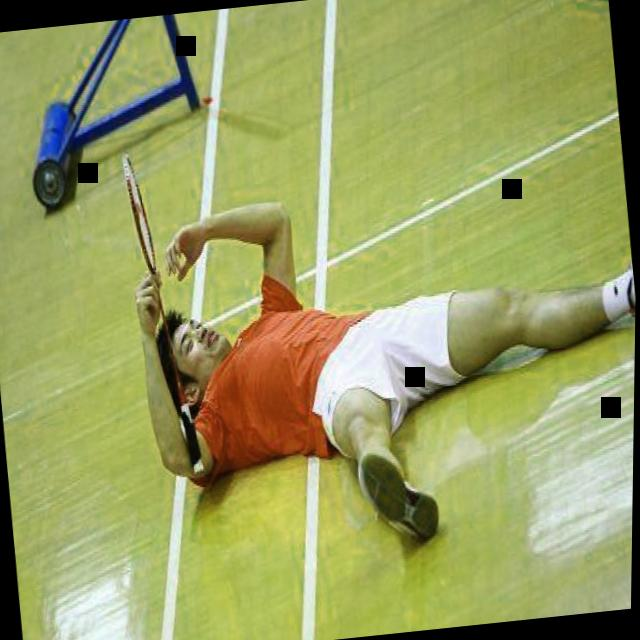Fall-Detected: (117, 92, 639, 597)
